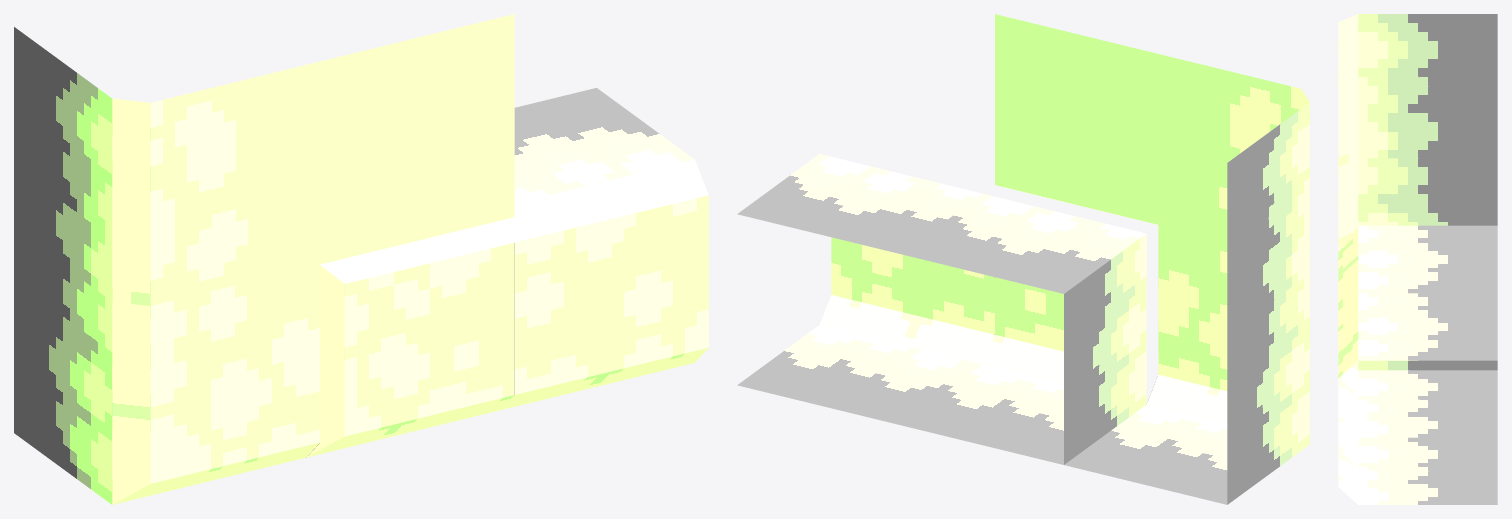
File: grass-block.glb
3 renders of one model, left to right at view 1: azimuth 30°, elevation 25°; view 2: azimuth 150°, elevation 25°; view 3: azimuth 270°, elevation 25°, orthographic. The views are drawn at different scales.
Parts seen in each view (by area): view 1: Cube, Cube.002, Cube.003, Cube.004, Cube.001; view 2: Cube.001, Cube.003, Cube.002, Cube, Cube.004; view 3: Cube, Cube.001, Cube.003, Cube.002.
Part boxes in pixels (bbox=[...]): Cube: bbox=[14, 27, 320, 305]; Cube.002: bbox=[14, 230, 320, 504]; Cube.003: bbox=[501, 88, 708, 409]; Cube.004: bbox=[320, 14, 514, 264]; Cube.001: bbox=[307, 219, 514, 457]; Cube.001: bbox=[901, 193, 1146, 464]; Cube.003: bbox=[737, 154, 994, 424]; Cube.002: bbox=[1064, 225, 1309, 504]; Cube: bbox=[1158, 54, 1309, 333]; Cube.004: bbox=[995, 14, 1158, 224]; Cube: bbox=[1338, 14, 1497, 166]; Cube.001: bbox=[1338, 225, 1497, 437]; Cube.003: bbox=[1338, 293, 1497, 504]; Cube.002: bbox=[1338, 158, 1497, 251].
Bounding box in the file's own units: 3 × 2 × 1.
